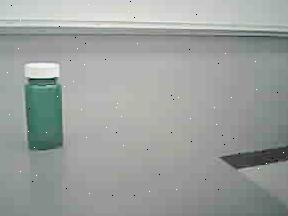Bottle C: (14, 56, 72, 156)
